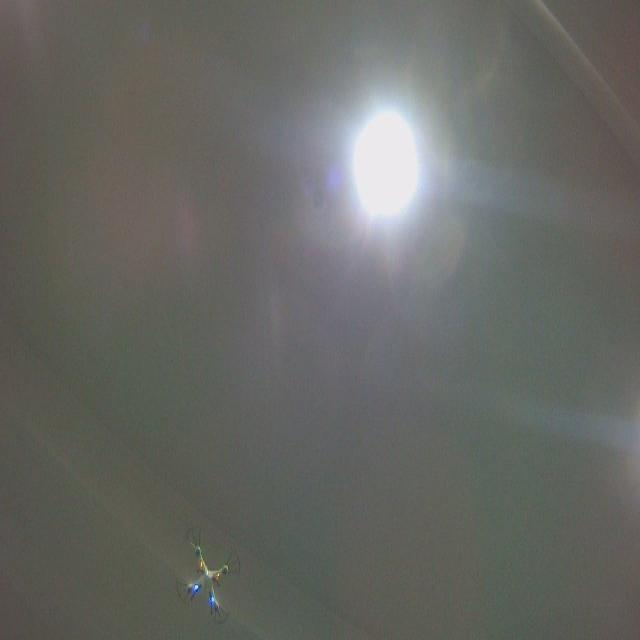drone: (173, 522, 243, 626)
